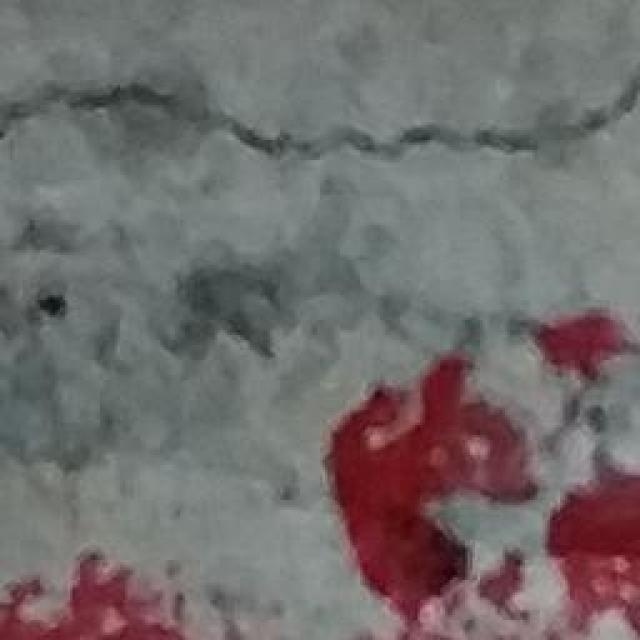Transverse: (0, 70, 640, 210)
